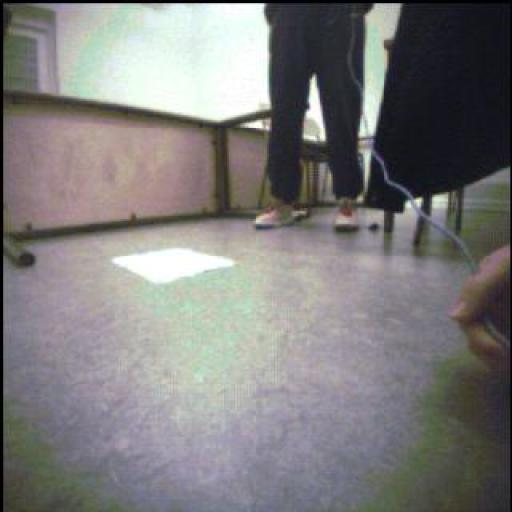Pad: (115, 250, 243, 287)
